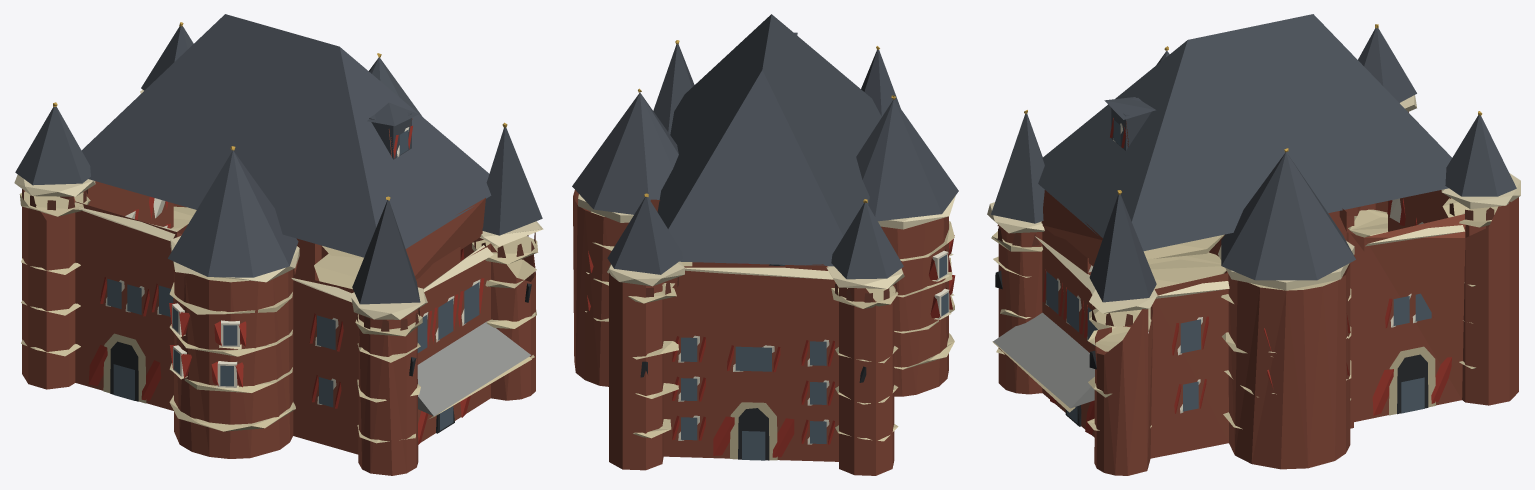
Rendered from waag.lod1.glb.
The picture shows the model from 3 angles, left to right: view 1: azimuth 30°, elevation 25°; view 2: azimuth 150°, elevation 25°; view 3: azimuth 270°, elevation 25°; orthographic projection. The views are drawn at different scales.
Visible parts, largest first — view 1: waag; view 2: waag; view 3: waag.
Boxes of the visible parts, x1,y1,x2,y2 form: waag: (14, 14, 543, 475); waag: (572, 14, 958, 475); waag: (987, 14, 1520, 475).
Size of the model in its own units: 25.92 by 22.5 by 30.54.
